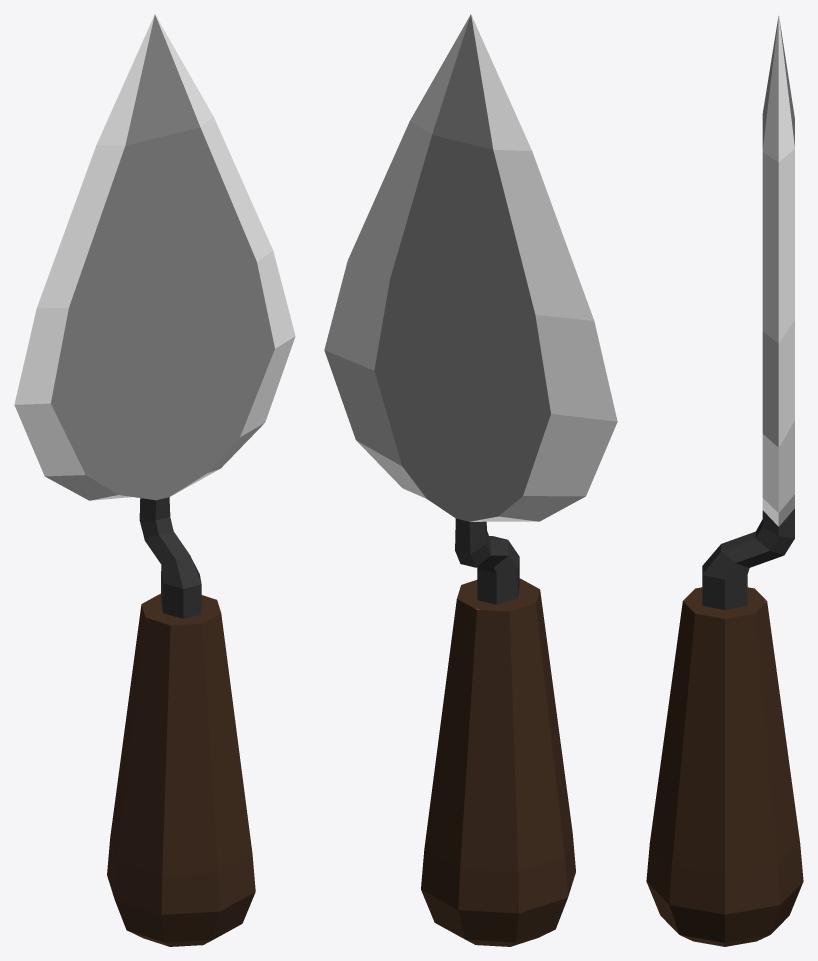
File: caibay.fbx
3 renders of one model, left to right at view 1: azimuth 30°, elevation 25°; view 2: azimuth 150°, elevation 25°; view 3: azimuth 270°, elevation 25°, orthographic. The views are drawn at different scales.
Parts seen in each view (by area): view 1: caibay; view 2: caibay; view 3: caibay.
Boxes of the visible parts, x1,y1,x2,y2 form: caibay: (14, 14, 295, 946); caibay: (324, 14, 617, 946); caibay: (646, 14, 803, 946).
Size of the model in its own units: 1.25 by 3.84 by 0.594.
